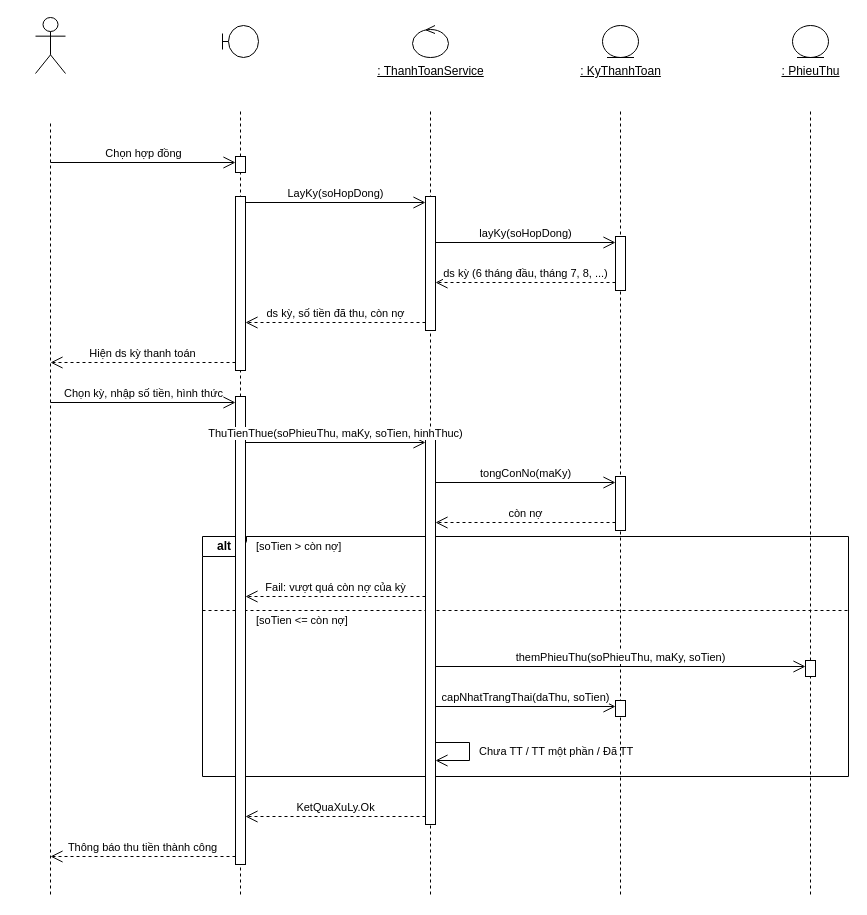
Some shapes in this 867 by 915 pixel diagram are drawn without their labels. The shapes that lost their labels are listed below. From the top down, each one's centre as x and y in pixels, then its label:
point 50,45: : NV kế toán
point 240,41: : FrmThanhToan
